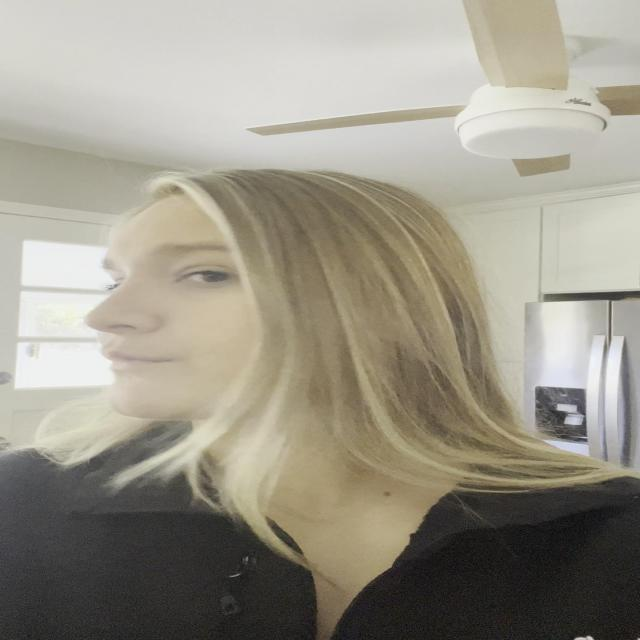no-helmet: (83, 183, 299, 420)
